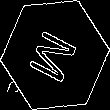M_SE: (25, 23, 85, 87)
